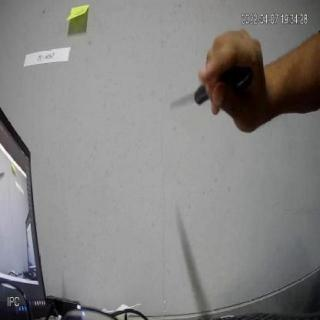knife: (166, 65, 266, 109)
